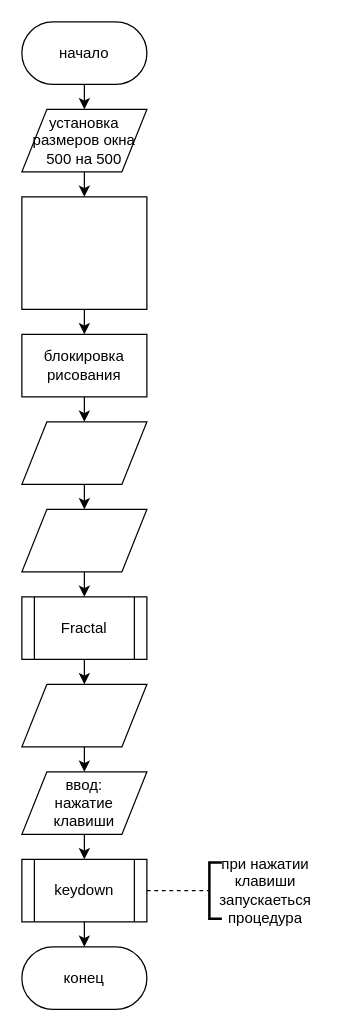
Image size: 344x1031. Some labels were removed from this diagram. The shapes that lost their labels are listed below. From the top down, each one's box as (x1, y1, x2, y2) in pixels, then its label:
(21, 196, 147, 309): t=5 n=1 step=1*t i=1 x=15 y=15
(21, 421, 147, 484): переместить курсор в точку x , y
(21, 508, 147, 572): Ввод: n,-1
(21, 683, 147, 747): перерисовать содержимое экрана
